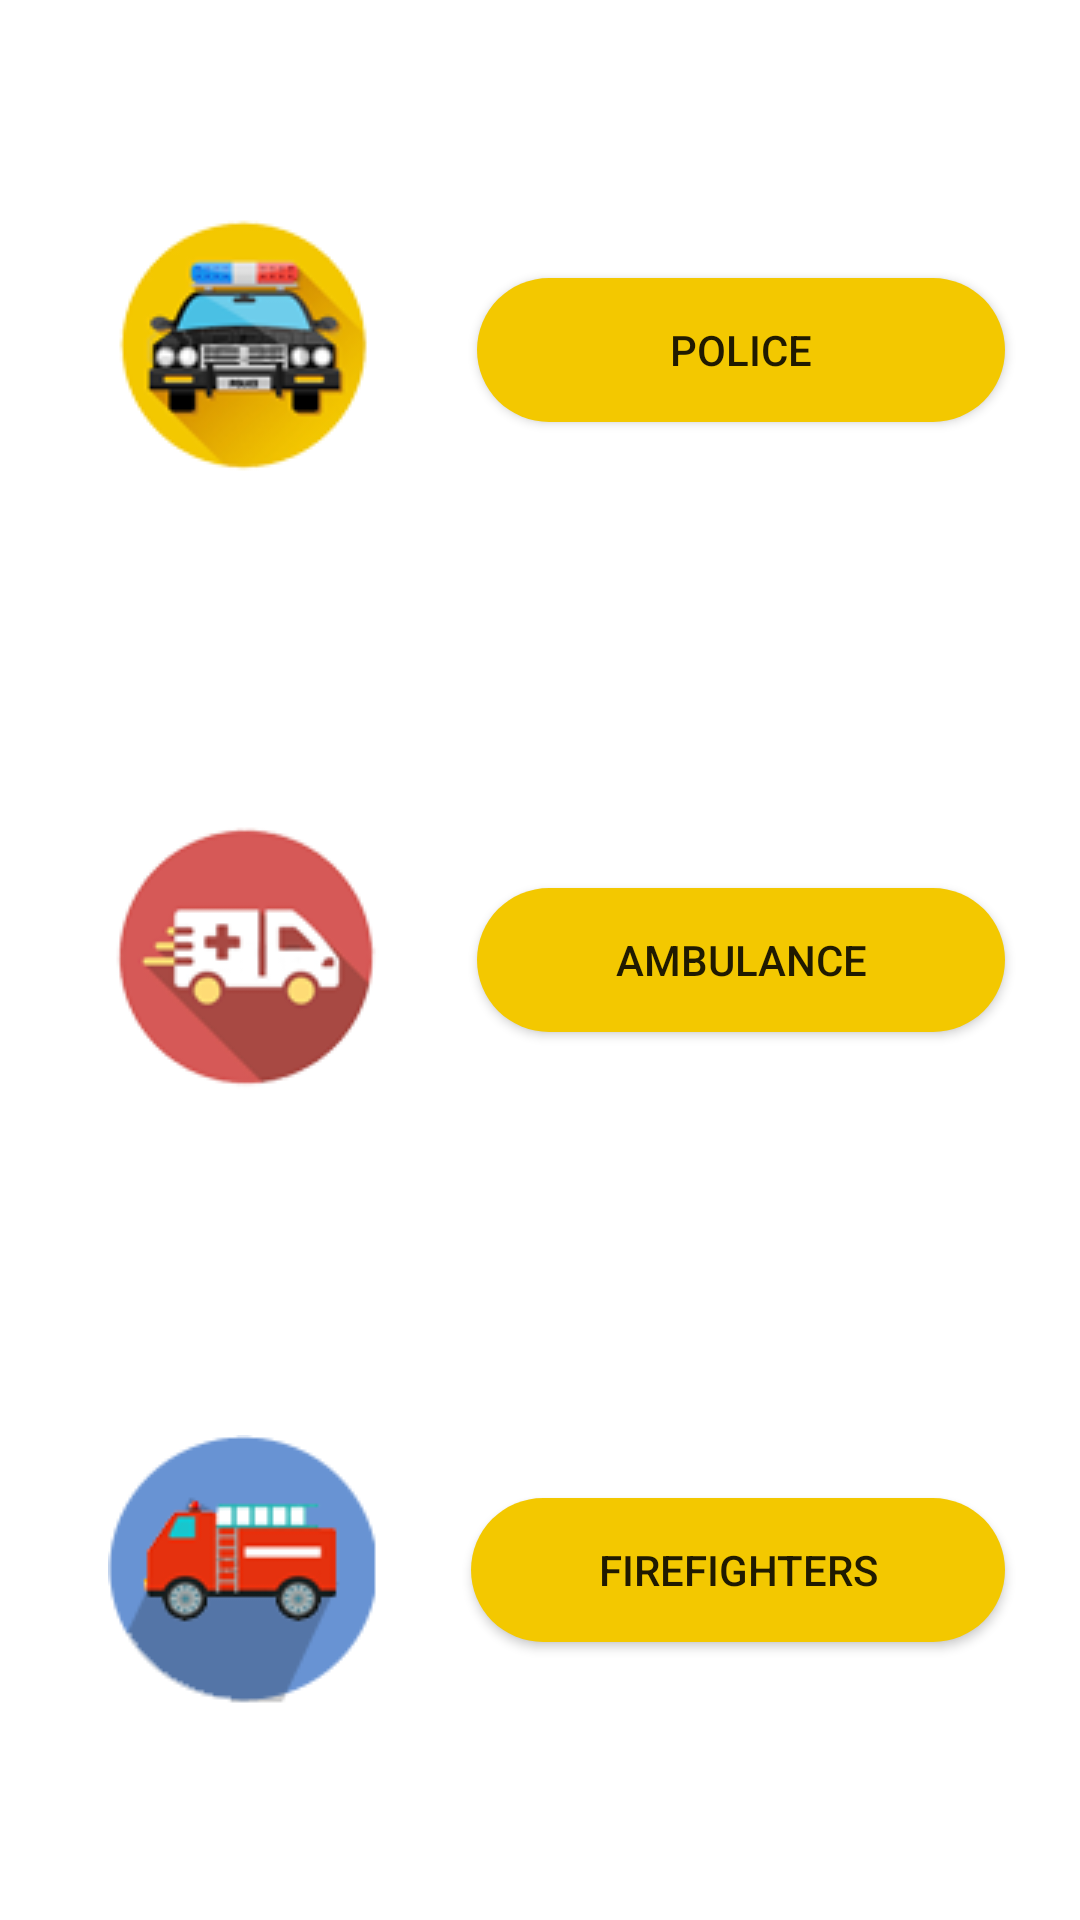

Point at icon controls on the screen. Image size 1080 × 1920, points as point (x, y).
firecar: point (242, 1569)
